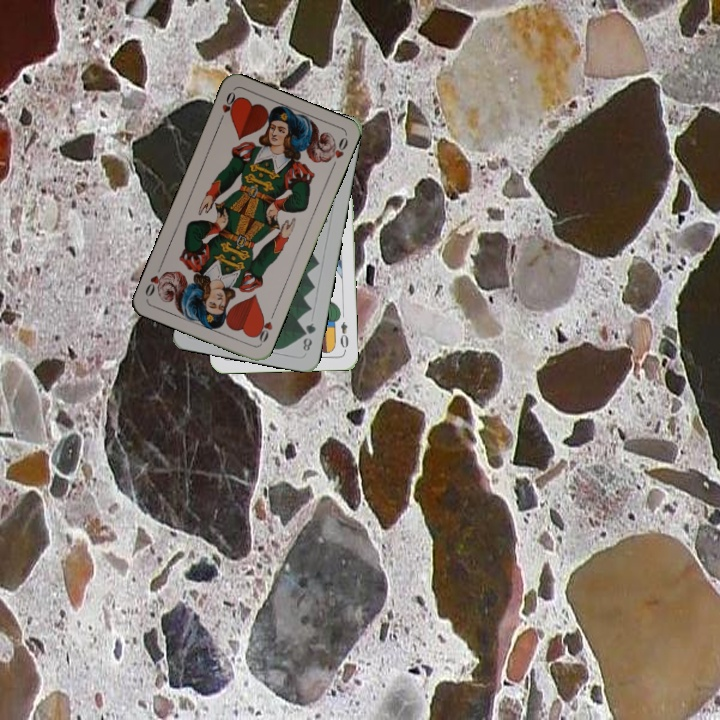EO: (337, 318, 351, 354)
G8: (299, 319, 318, 354)
HO: (251, 308, 277, 347), (215, 87, 240, 126)
